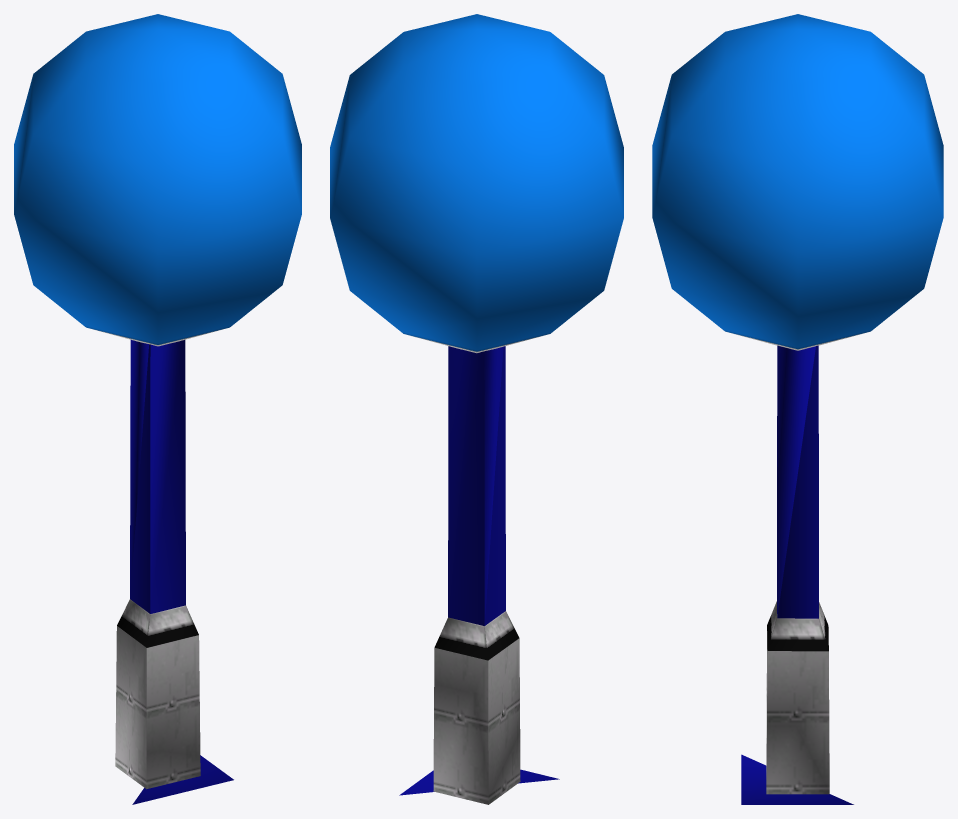
File: LampPostPole.obj
3 renders of one model, left to right at view 1: azimuth 30°, elevation 25°; view 2: azimuth 150°, elevation 25°; view 3: azimuth 270°, elevation 25°, orthographic. The views are drawn at different scales.
Visible parts, largest first — view 1: Object_2; view 2: Object_2; view 3: Object_2.
Part boxes in pixels (bbox=[...]): Object_2: bbox=[14, 14, 301, 804]; Object_2: bbox=[330, 14, 623, 804]; Object_2: bbox=[652, 14, 943, 804].
Size of the model in its own units: 4.33 by 10.67 by 3.75.
